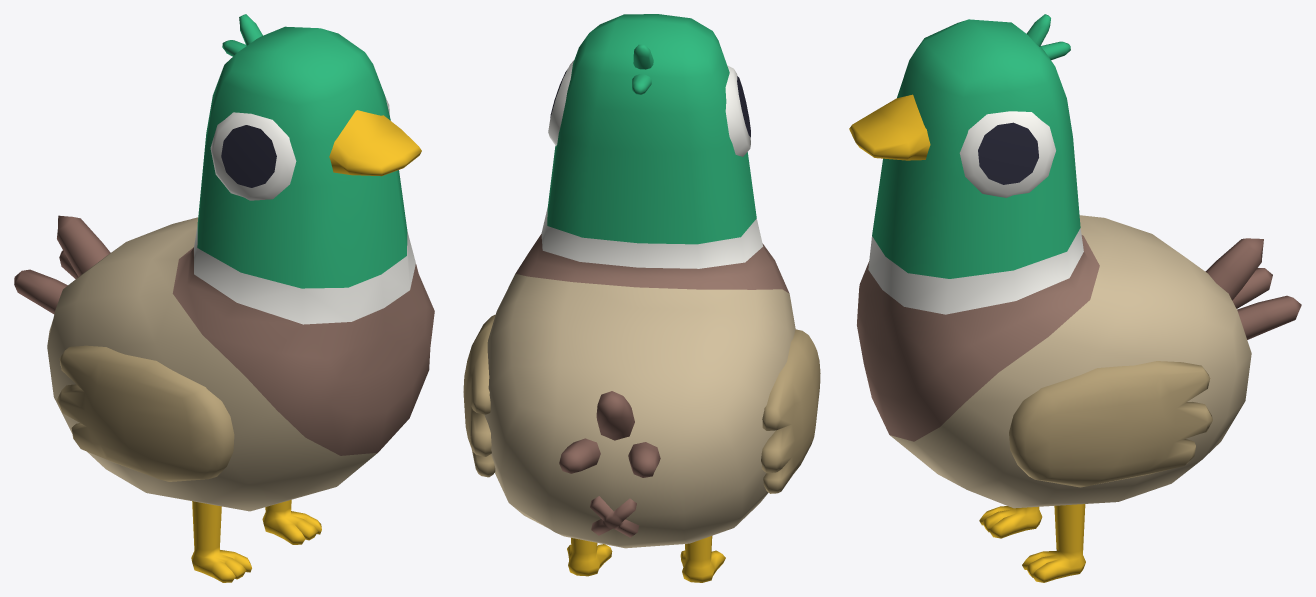
File: Mallard.glb
The picture shows the model from 3 angles, left to right: view 1: azimuth 30°, elevation 25°; view 2: azimuth 150°, elevation 25°; view 3: azimuth 270°, elevation 25°; orthographic projection.
Parts seen in each view (by area): view 1: Mallard; view 2: Mallard; view 3: Mallard.
Part boxes in pixels (box(x1,y1,x2,y2)): Mallard: box(14, 14, 434, 582); Mallard: box(463, 14, 820, 582); Mallard: box(849, 14, 1301, 582).
Bounding box in the file's own units: 1.31 × 2.06 × 1.59.
Materials: 1 (1 with a texture image).
